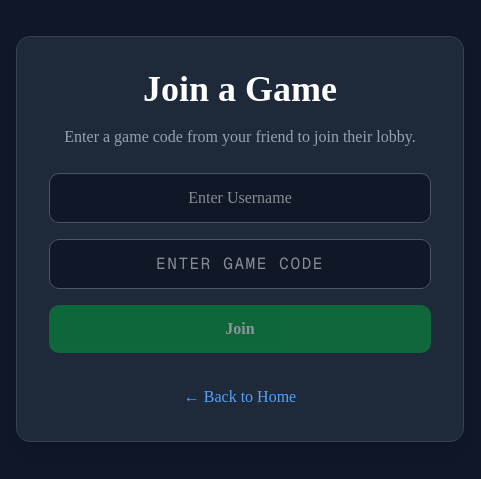
Test: JoinGamePage › displays API error when joining fails
Step 1. Type "Alice" into the field with placeholder "Enter Username" → coordinates (240, 198), box [49,173,431,223]
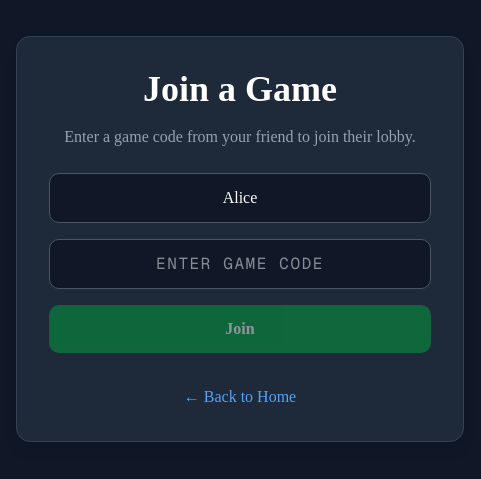
Step 2. Type "XYZW" into the field with placeholder "Enter Game Code" → coordinates (240, 264), box [49,239,431,289]
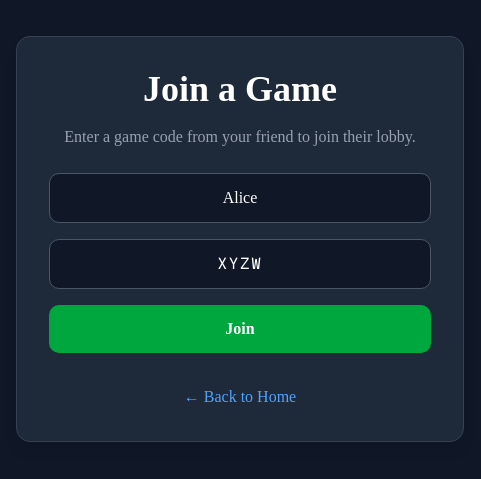
Step 3. Click the button "Join" → coordinates (240, 329), box [49,305,431,353]
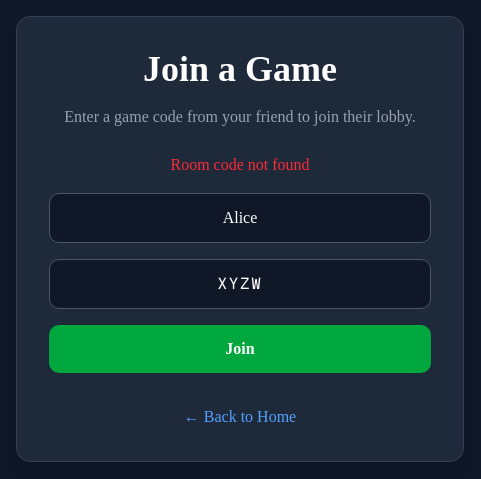
Expected: the button "Join" is enabled, [49,325,431,373]
Expected: the text "Room code not found" is shown, [170,156,310,173]
